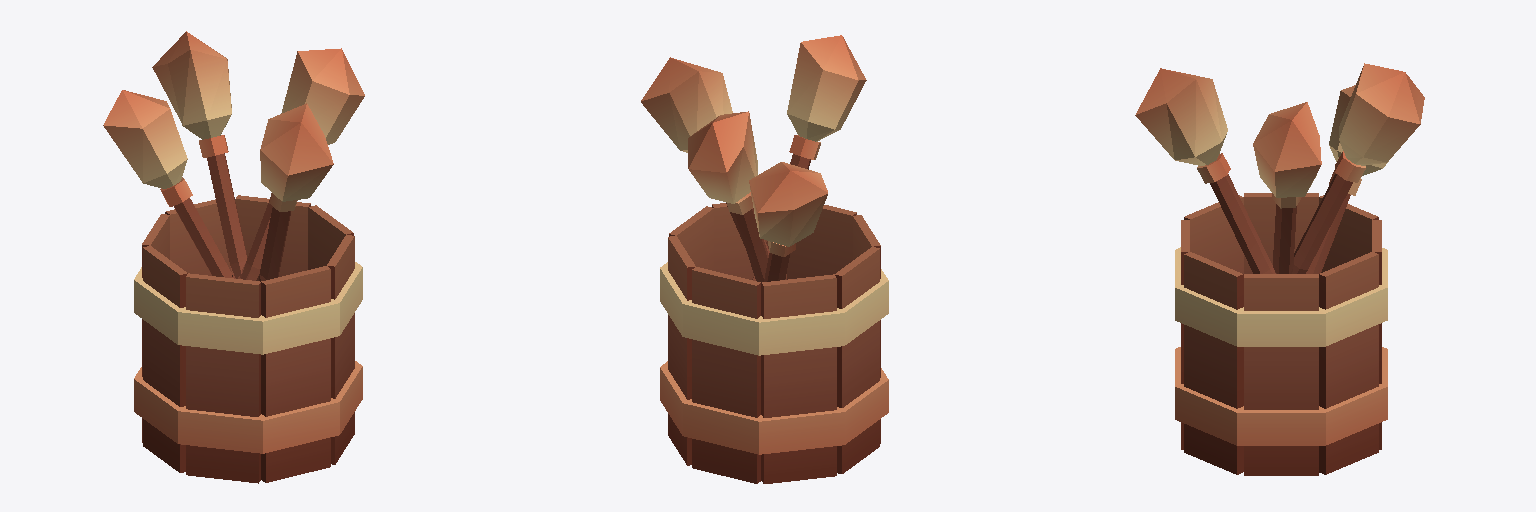
3 views of the same model, side by side, from view 1: azimuth 30°, elevation 25°; view 2: azimuth 150°, elevation 25°; view 3: azimuth 270°, elevation 25° (orthographic).
Visible parts, largest first — view 1: cylinder; view 2: cylinder; view 3: cylinder.
Boxes of the visible parts, <box> form: cylinder: <box>103,31,364,483</box>; cylinder: <box>641,35,888,483</box>; cylinder: <box>1135,63,1424,475</box>.
Bounding box in the file's own units: 1.69 × 2.74 × 1.99.
Materials: 1 (1 with a texture image).